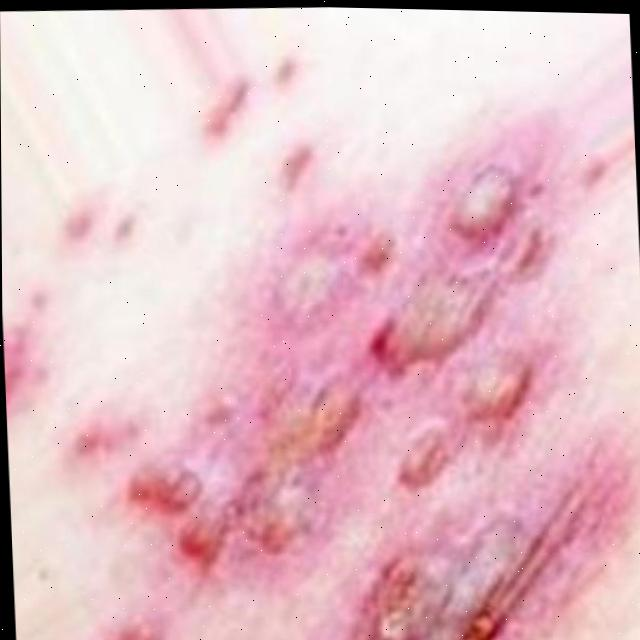Shingles: (85, 126, 632, 640), (2, 330, 49, 409)
